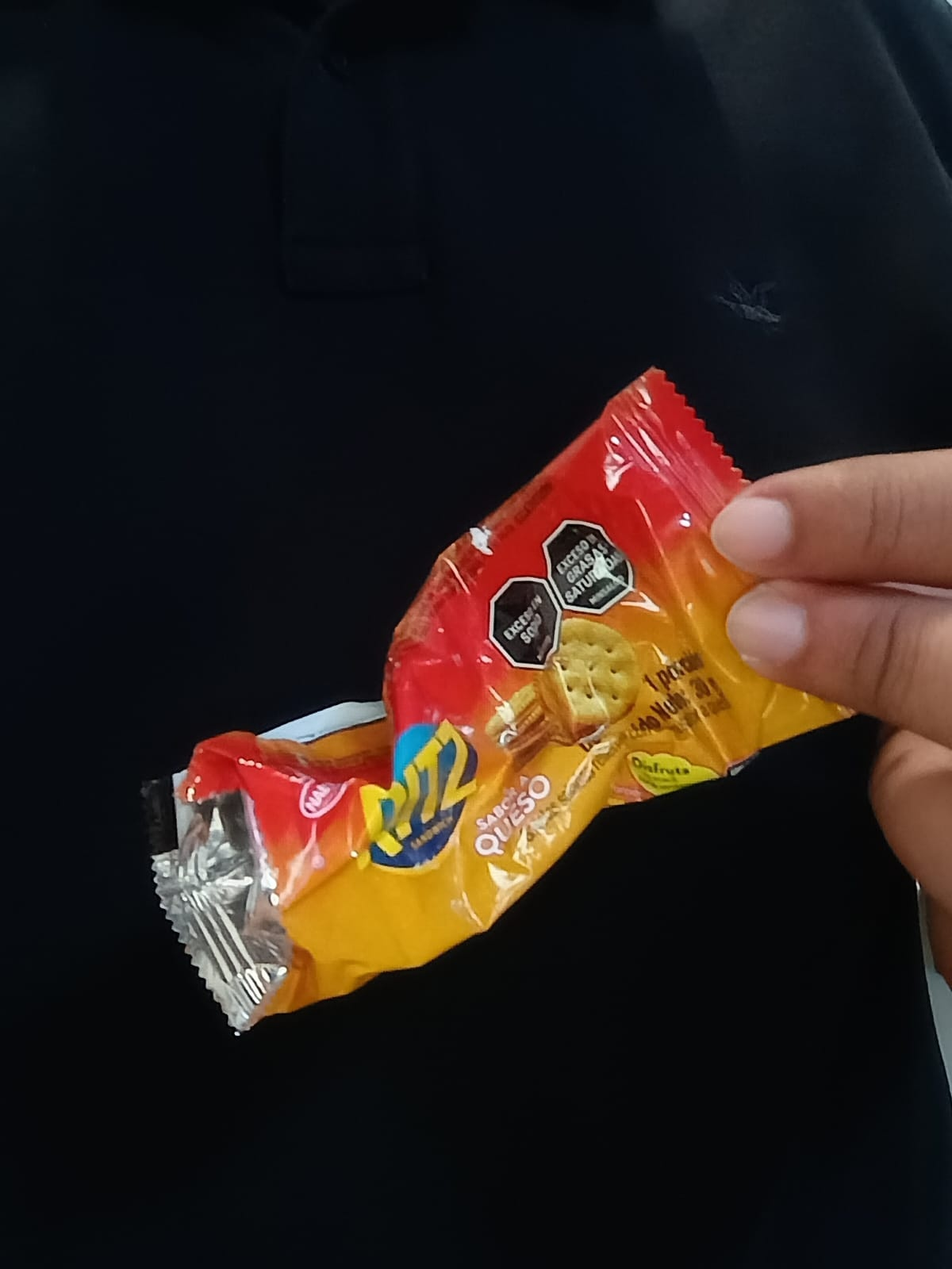Ordinario: (147, 370, 867, 1039)
